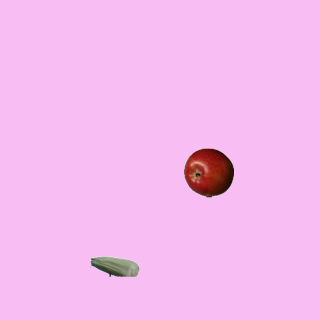Apple Braeburn: (183, 147, 233, 197)
Corn Husk: (89, 241, 139, 291)
